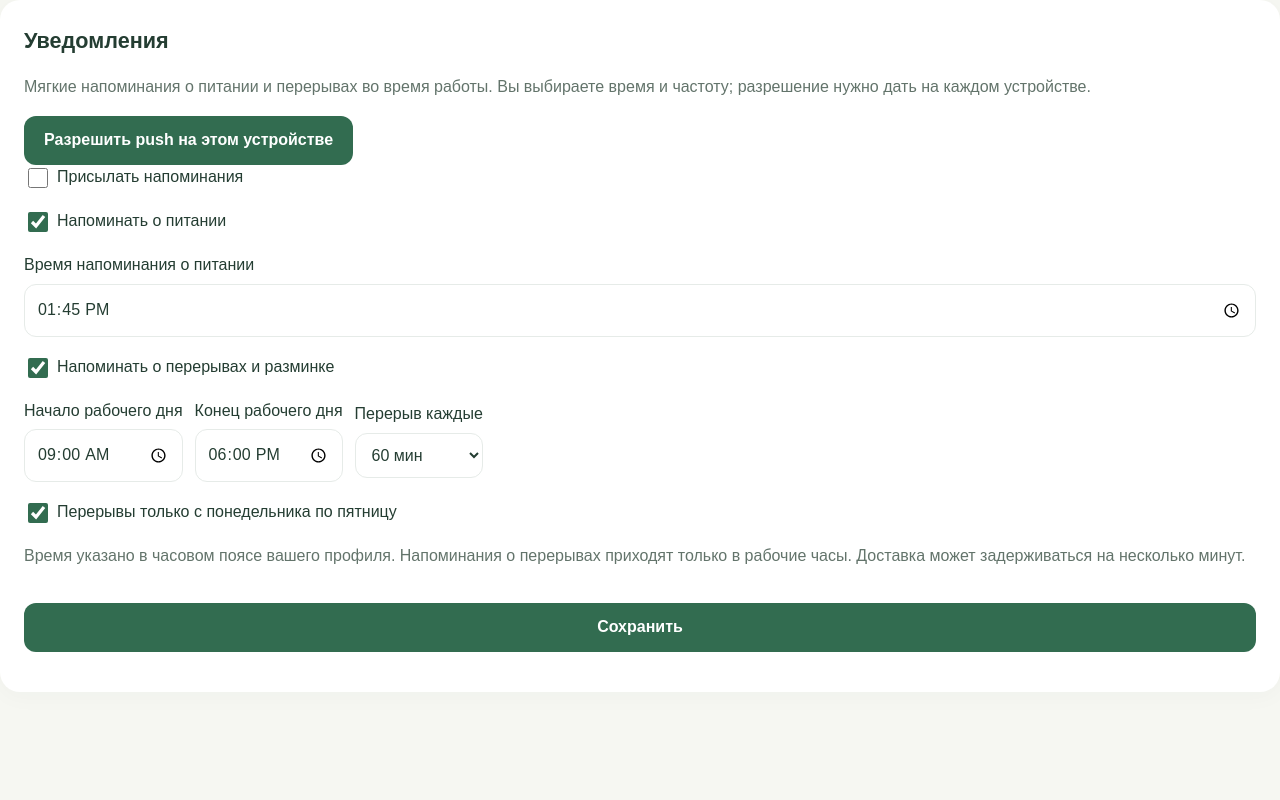
reminder settings › loads persisted times and saves the user's opt-in and work schedule
Expected: the time field labelled "Время напоминания о питании" holds "13:45", [24, 284, 1256, 337]
Click the checkbox labelled "Присылать напоминания" at x=38, y=178, box [28, 168, 48, 188]
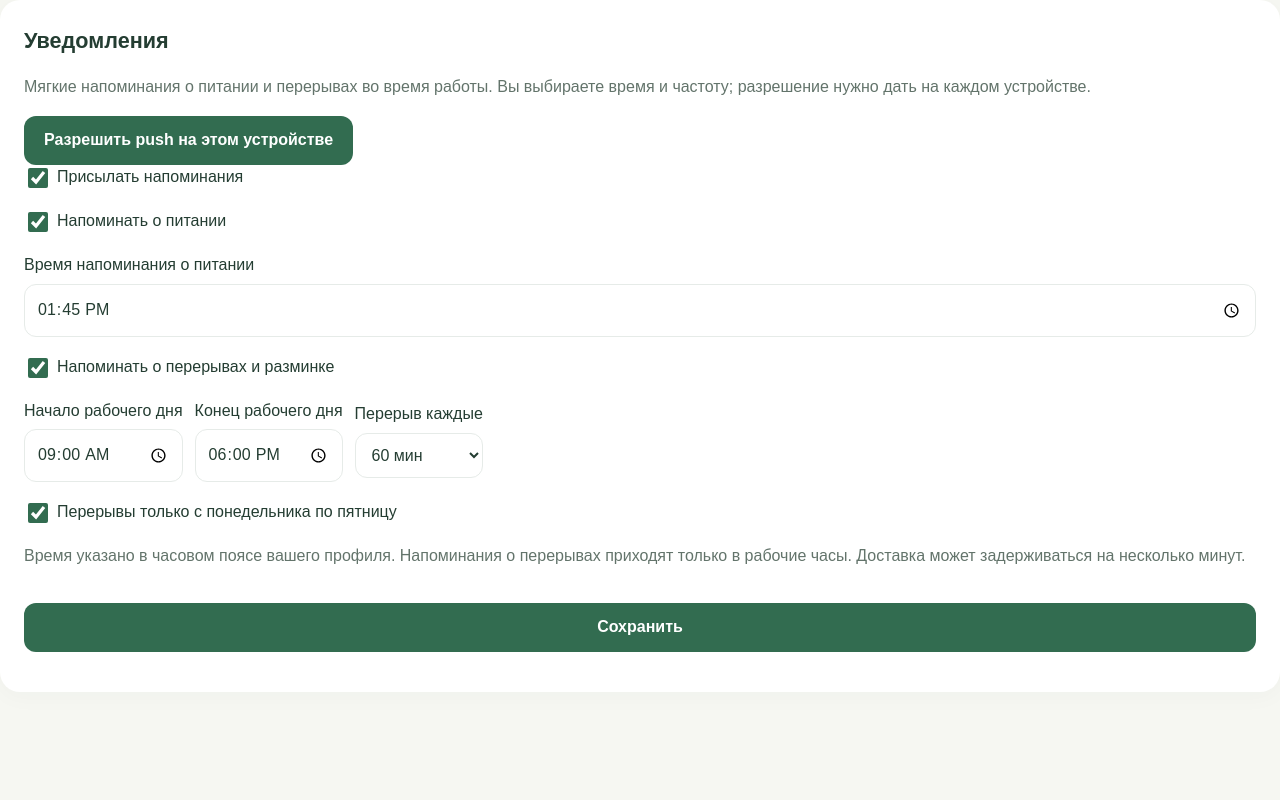
Replace the text in the time field labelled "Начало рабочего дня" with "10:00" at x=103, y=456, box [24, 429, 183, 482]
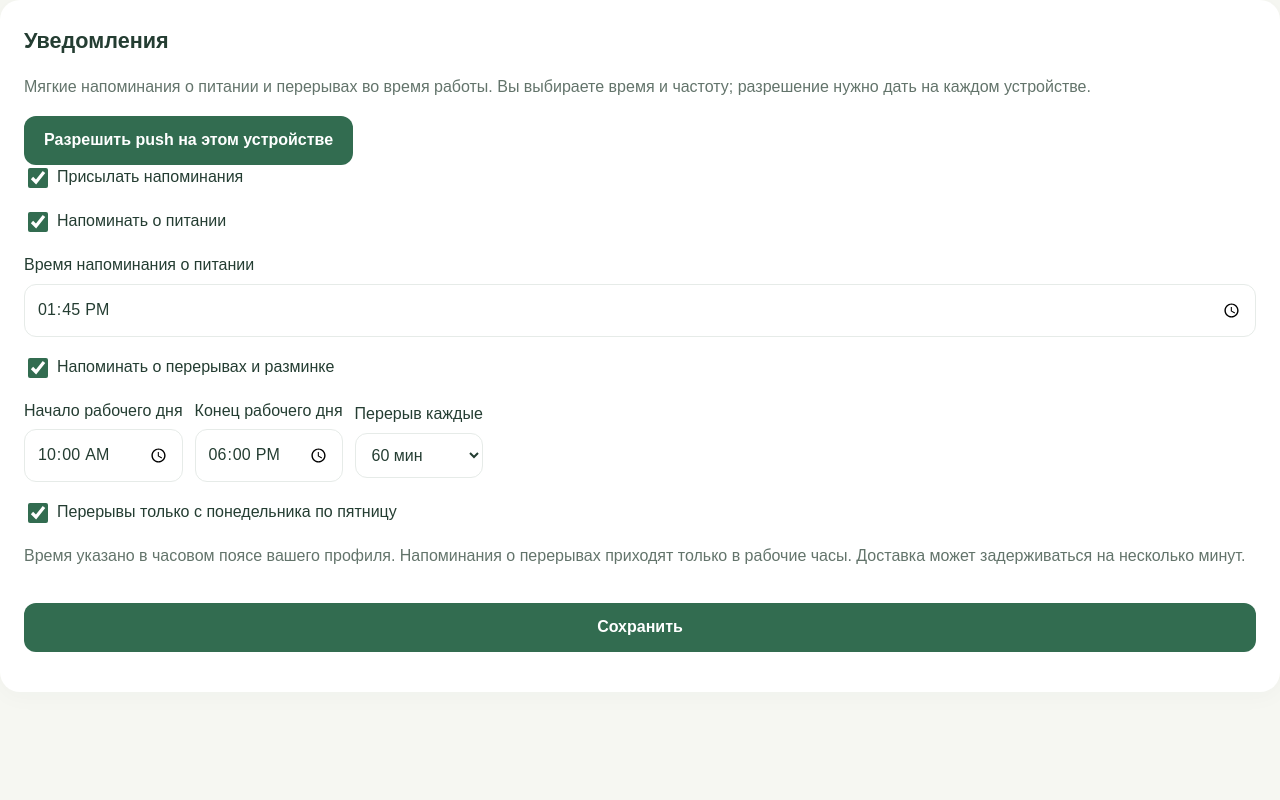
Click the button "Сохранить" at x=640, y=627, box [24, 603, 1256, 652]
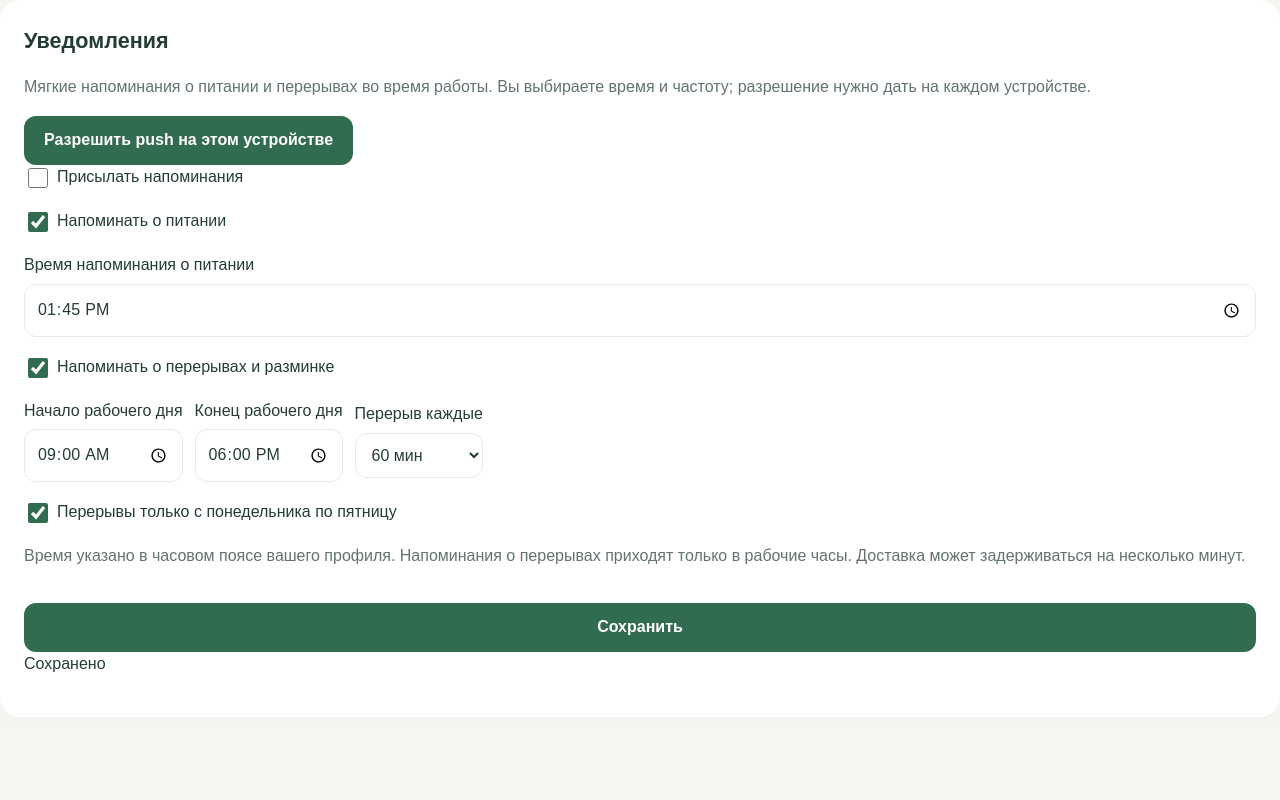
Result: the text "Сохранено" is shown at [24, 655, 106, 672]
